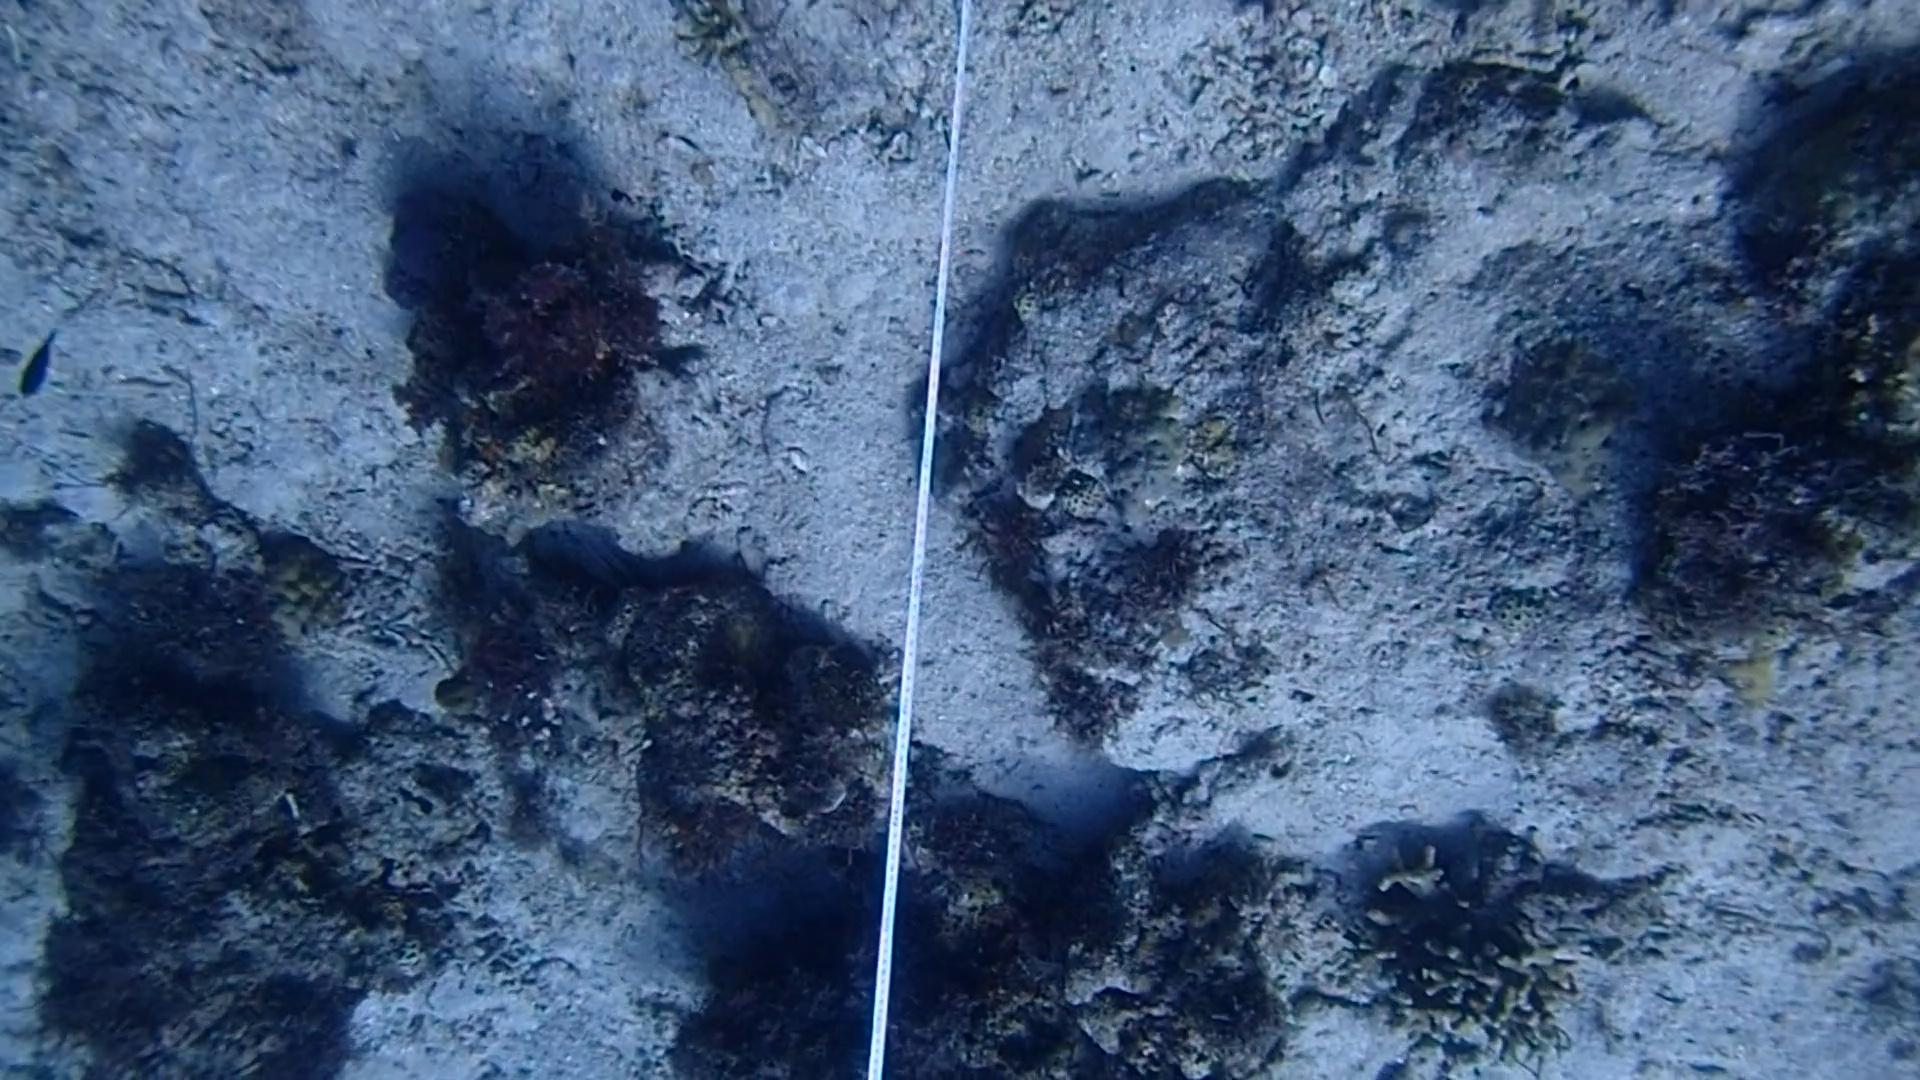Dark Fish: (18, 331, 76, 413)
